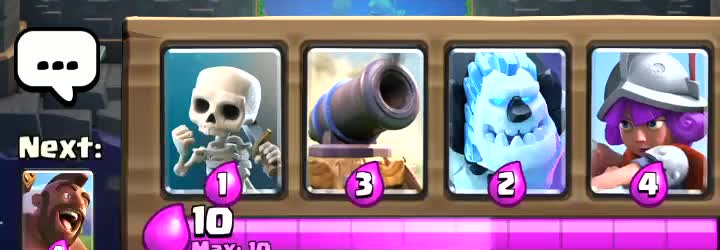cannon: (307, 57, 413, 199)
hog-rider: (23, 171, 92, 250)
ice-golem: (447, 52, 561, 199)
musketeer: (595, 46, 710, 202)
